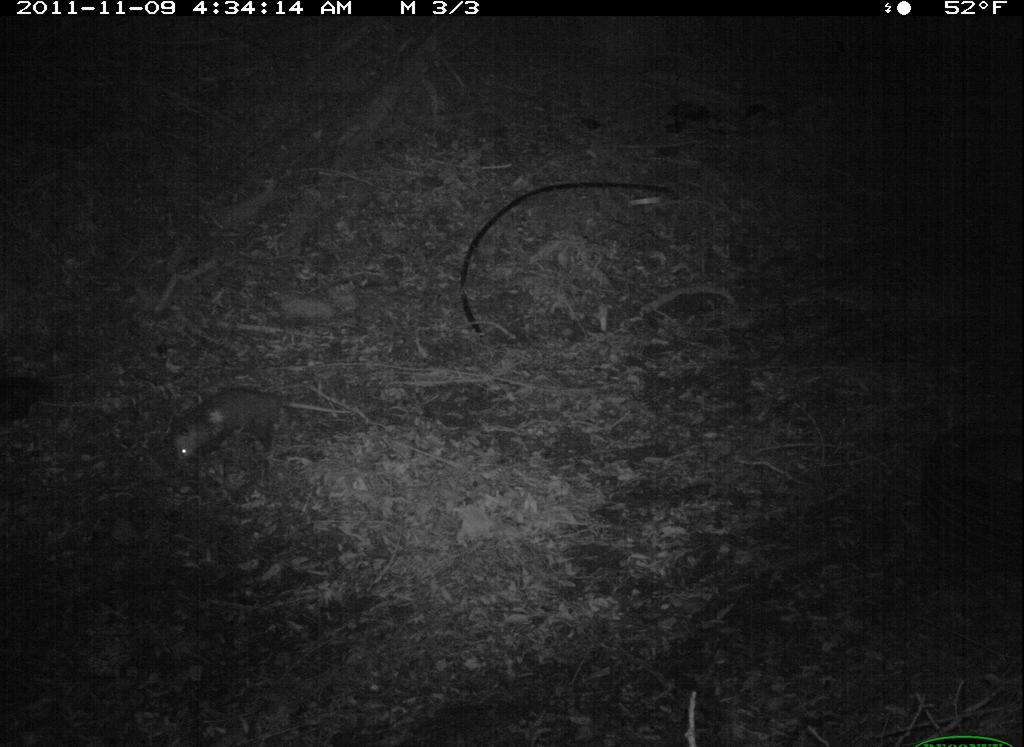opossum: (162, 381, 304, 475)
